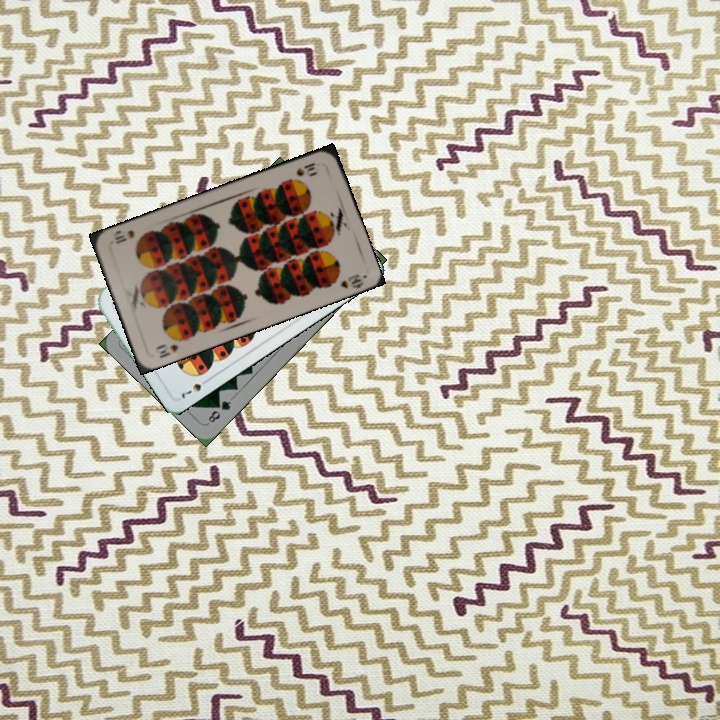G8: (204, 396, 234, 425)
S10: (152, 333, 187, 361), (292, 158, 322, 179)
S7: (176, 374, 212, 401)
